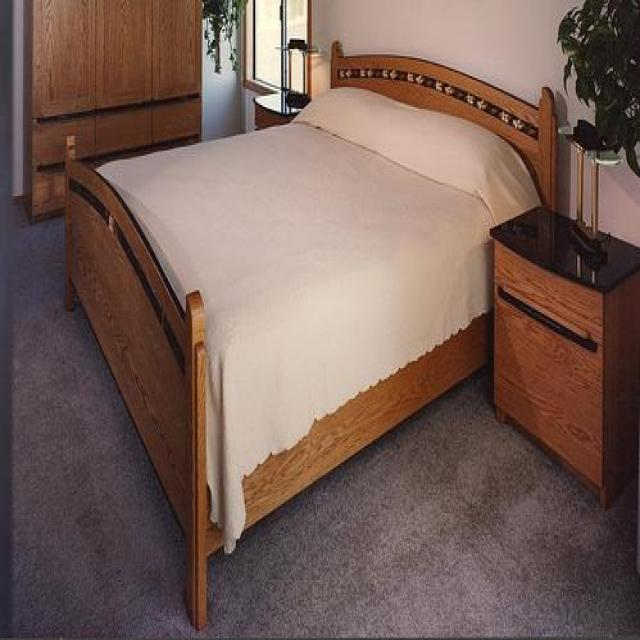bed: (61, 38, 558, 629)
